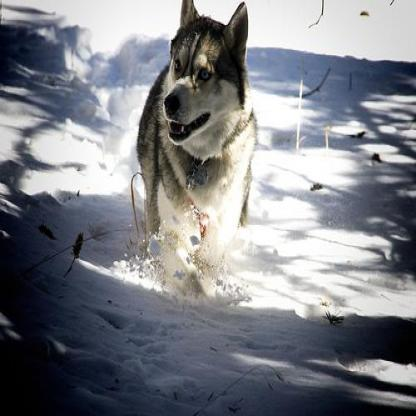Siberian_husky: (136, 0, 256, 281)
